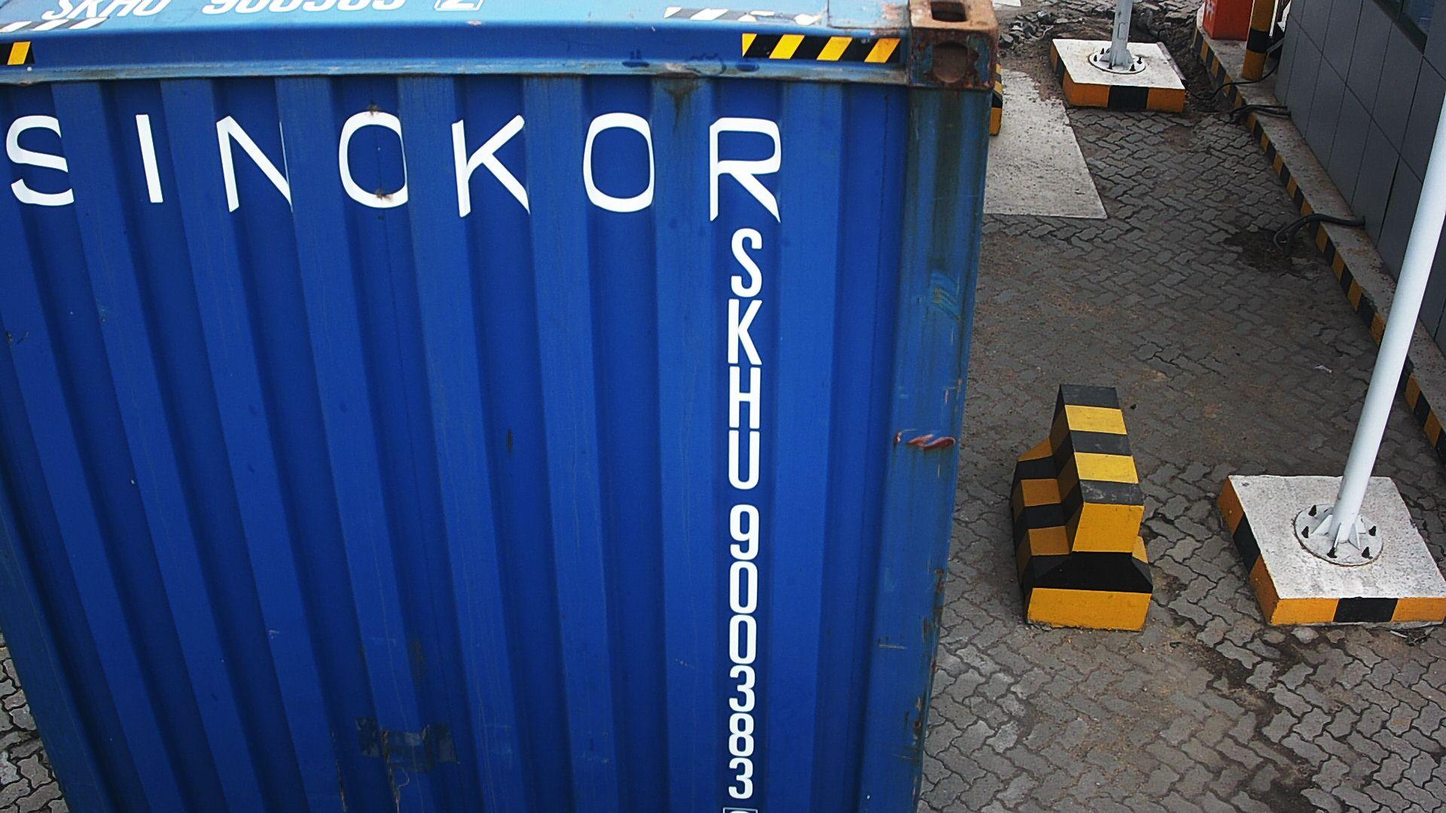container-numbers: (716, 220, 769, 813)
